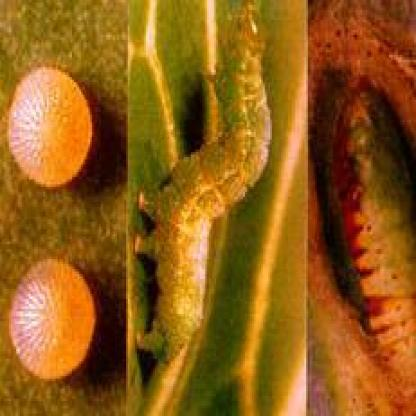armyworm: (133, 0, 269, 376), (326, 66, 416, 402), (5, 256, 101, 384), (8, 68, 93, 186)
